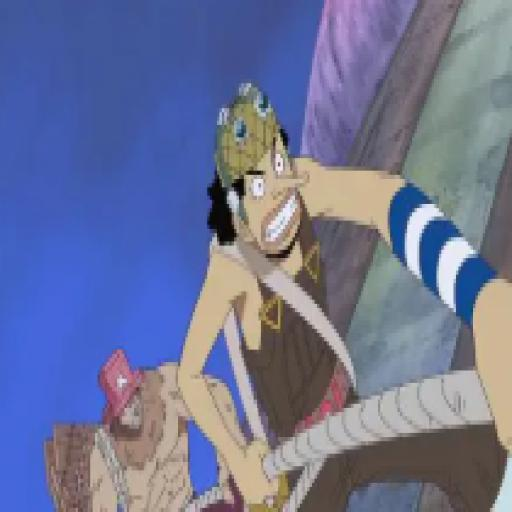Usopp: (173, 75, 512, 512)
